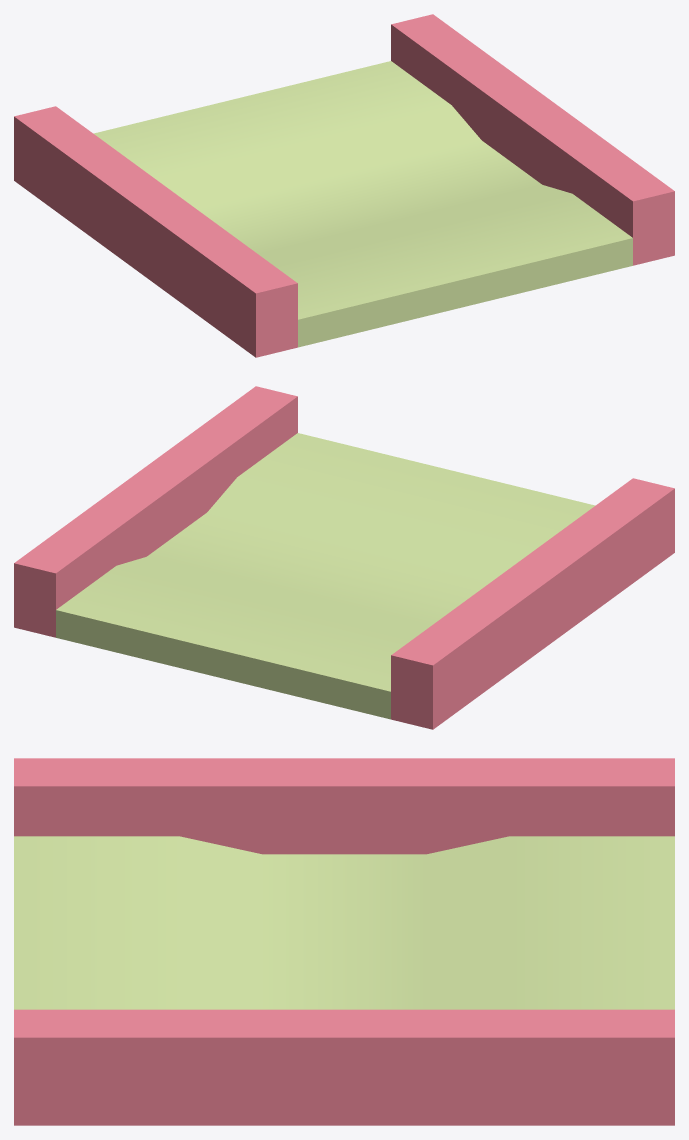
File: crest.fbx
3 views of the same model, one above another, from view 1: azimuth 30°, elevation 25°; view 2: azimuth 150°, elevation 25°; view 3: azimuth 270°, elevation 25° (orthographic). The views are drawn at different scales.
Visible parts, largest first — view 1: crest; view 2: crest; view 3: crest.
Part boxes in pixels (box(x1,y1,x2,y2)): crest: box(14, 14, 674, 357); crest: box(14, 386, 674, 729); crest: box(14, 758, 674, 1125).
Size of the model in its own units: 99.99 by 14.67 by 99.99.
